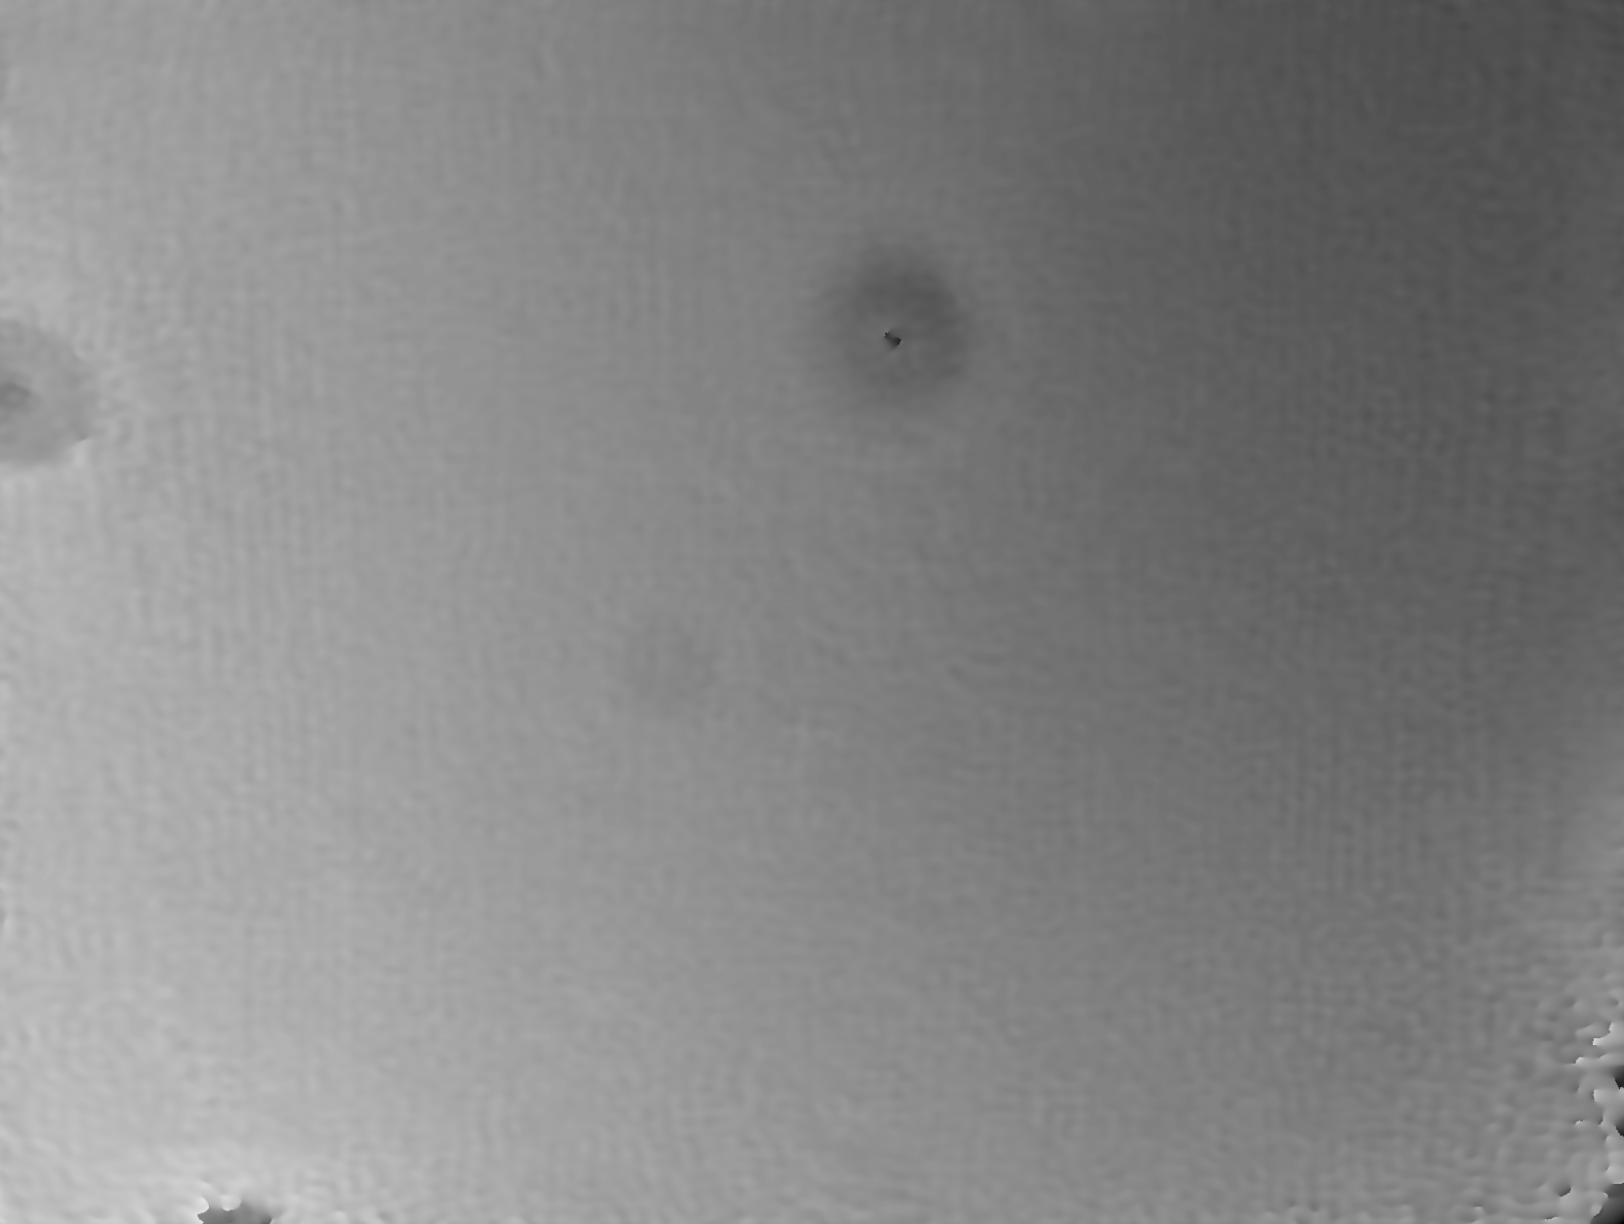cell: (771, 212, 1012, 464)
